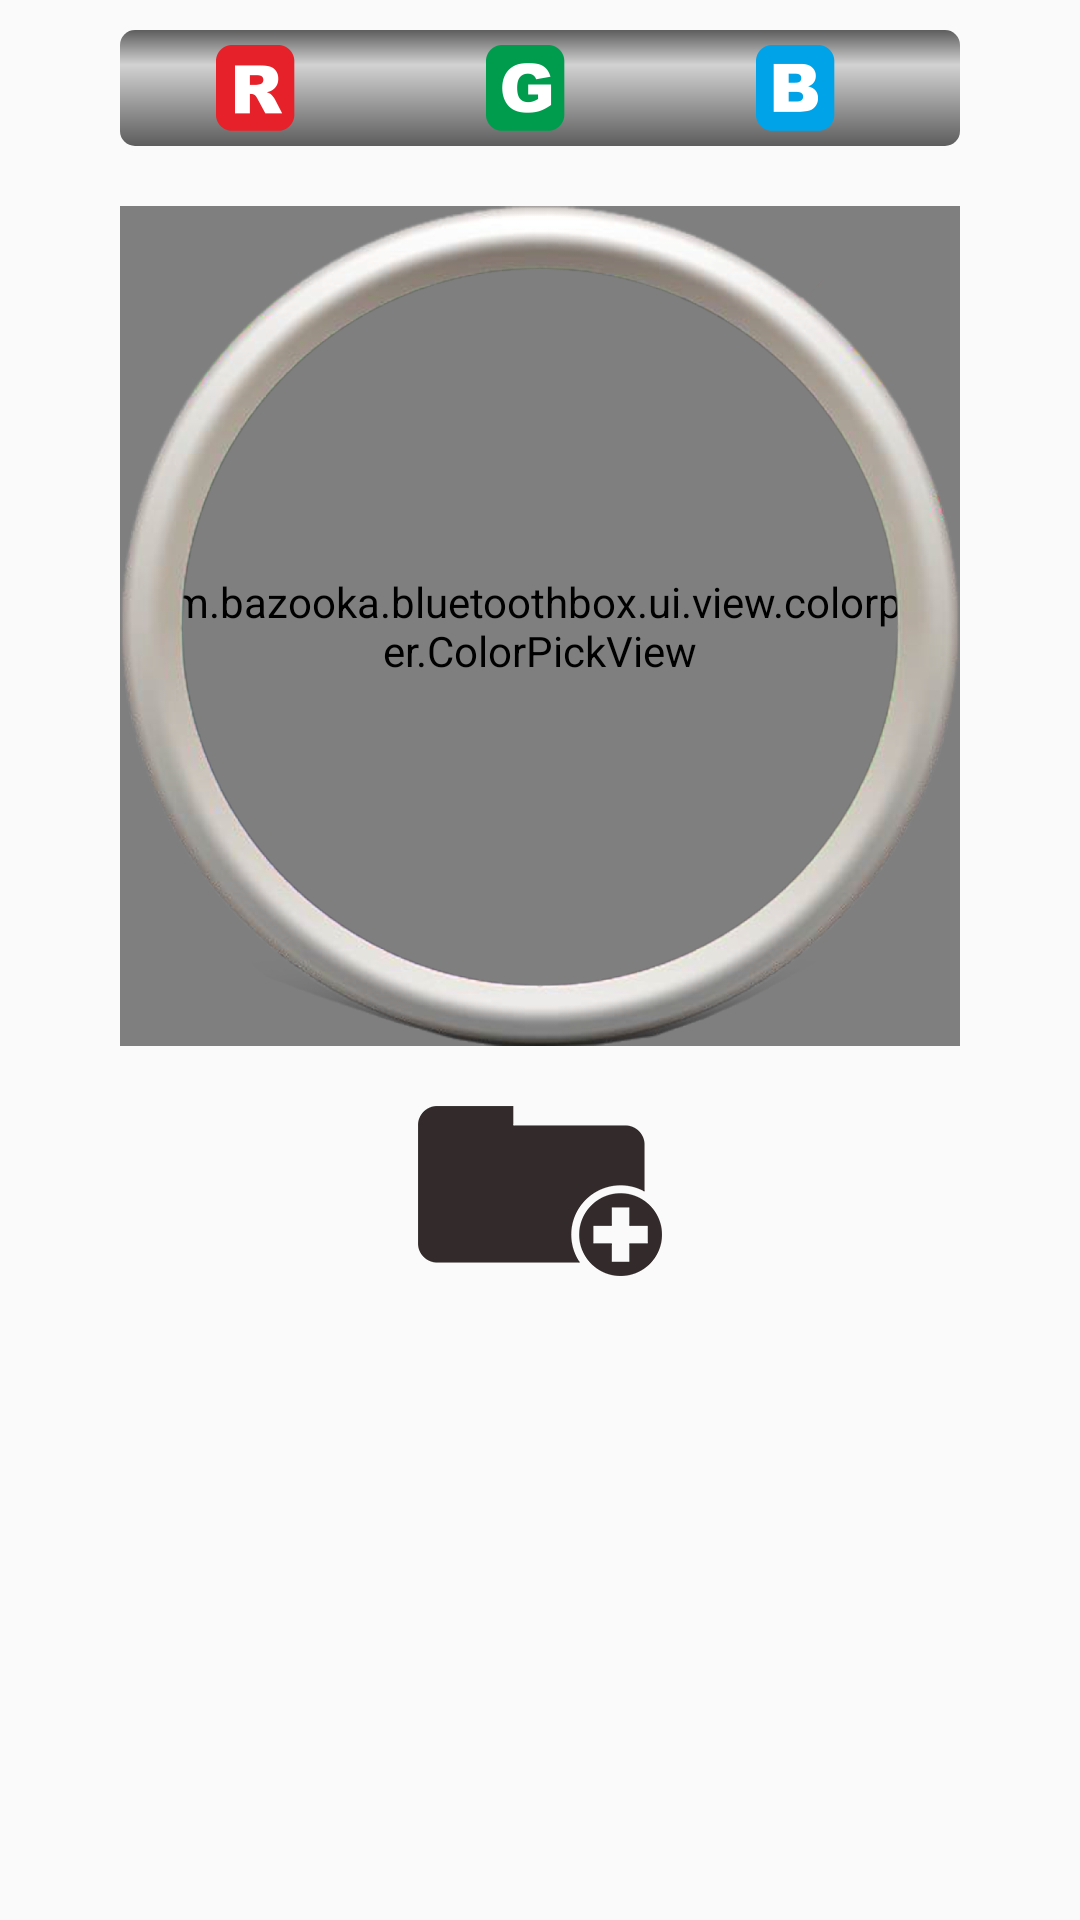

Icon bounding boxes for this 1080w x 1920h phone screenshot, format (x1, y1, x2, y2):
add: (418, 1106, 662, 1276)
